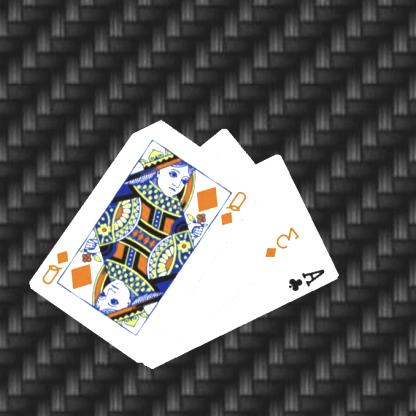3D: (264, 224, 303, 260)
AC: (288, 266, 328, 293)
QD: (40, 247, 72, 287), (220, 188, 250, 227)
